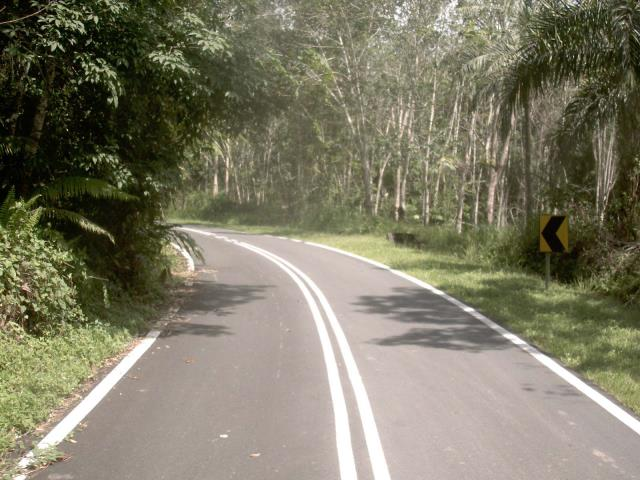traffic_sign: (530, 205, 577, 262)
